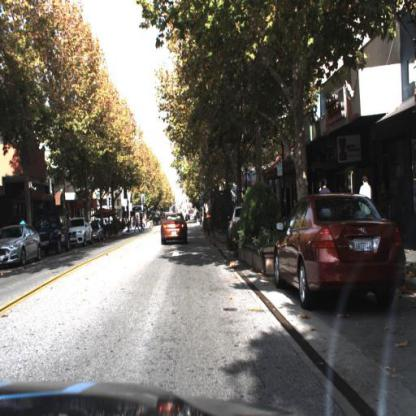car: (273, 190, 408, 313), (1, 224, 46, 268), (36, 213, 73, 256), (39, 209, 69, 260), (161, 212, 190, 248), (69, 215, 93, 249), (230, 205, 245, 249), (92, 217, 104, 246)
pedestrian: (358, 173, 373, 213), (135, 213, 142, 235), (20, 216, 28, 228), (141, 214, 145, 231), (22, 217, 26, 225)
